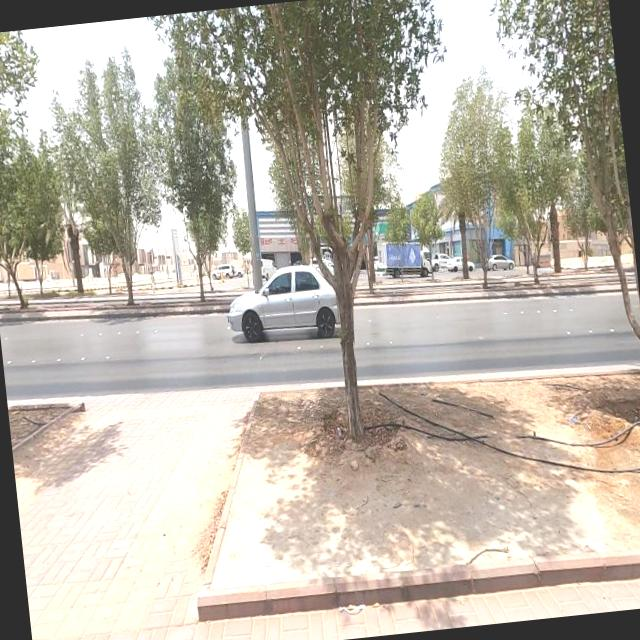debris: (332, 333, 543, 514), (451, 369, 640, 548), (300, 545, 412, 640), (530, 374, 623, 469)
